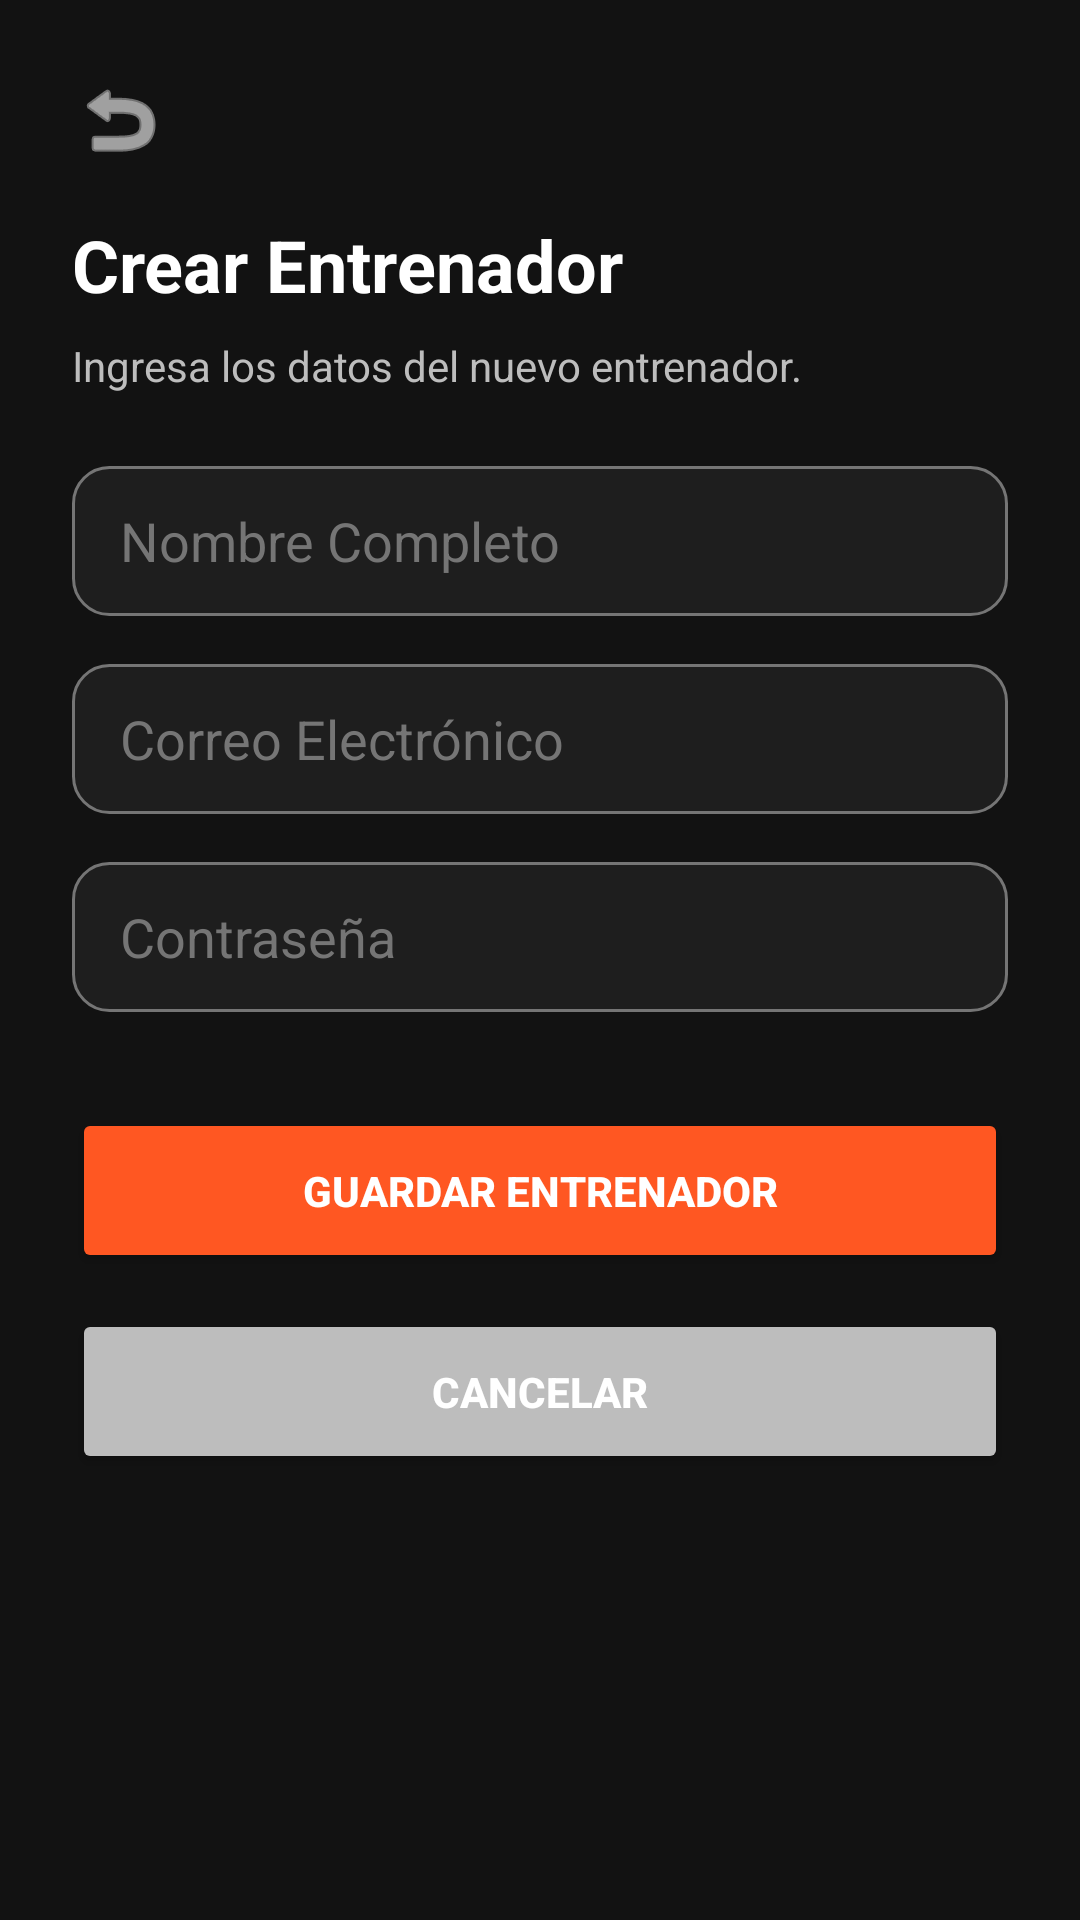

Screen size 1080w x 1920h. Icon name, then its box in pixels as bbox=[x1, y1, x2, y2]:
revert: bbox=[87, 89, 156, 152]
